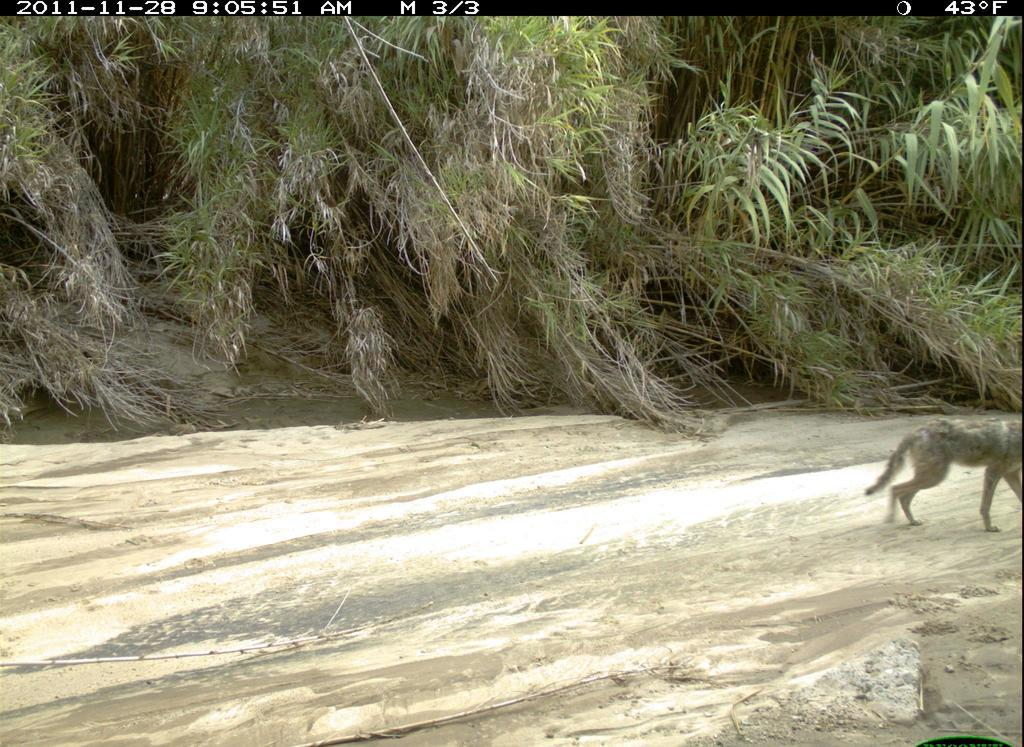coyote: (861, 387, 1023, 562)
